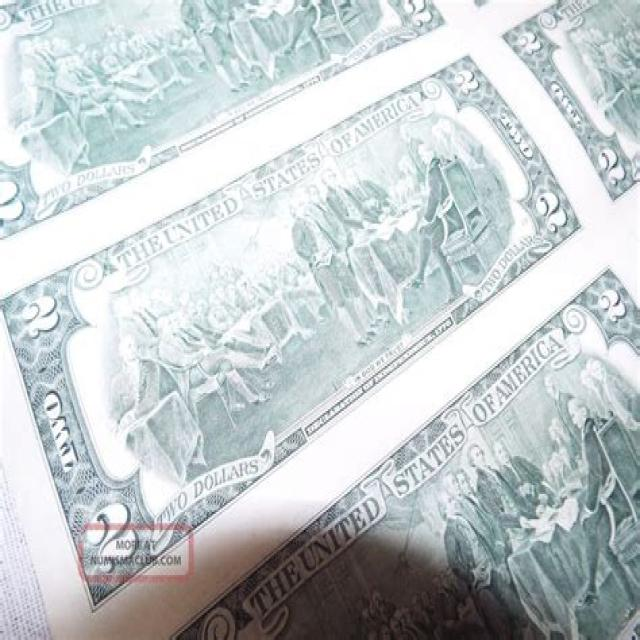Two: (2, 18, 604, 638)
